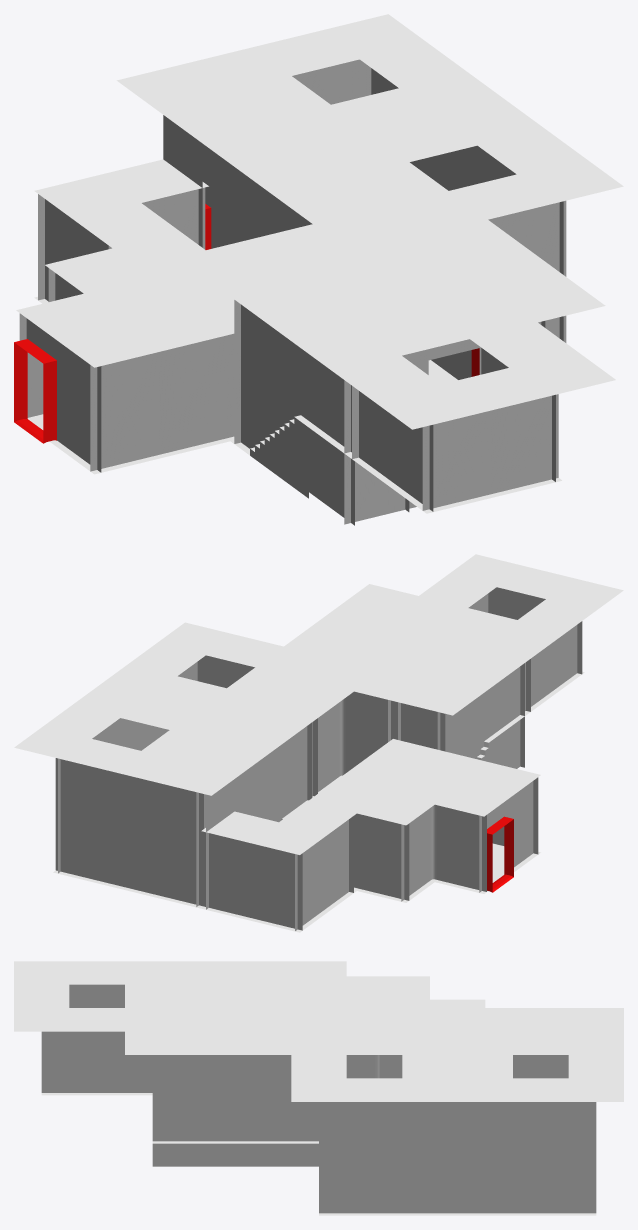
File: Demo_Room.fbx
The picture shows the model from 3 angles, top to bottom: view 1: azimuth 30°, elevation 25°; view 2: azimuth 150°, elevation 25°; view 3: azimuth 270°, elevation 25°; orthographic projection. The views are drawn at different scales.
Parts seen in each view (by area): view 1: DemoRoom; view 2: DemoRoom; view 3: DemoRoom.
Boxes of the visible parts, x1,y1,x2,y2 form: DemoRoom: (14,14,623,525); DemoRoom: (14,554,623,932); DemoRoom: (14,961,623,1215).
Size of the model in its own units: 1520 by 600 by 2200.
